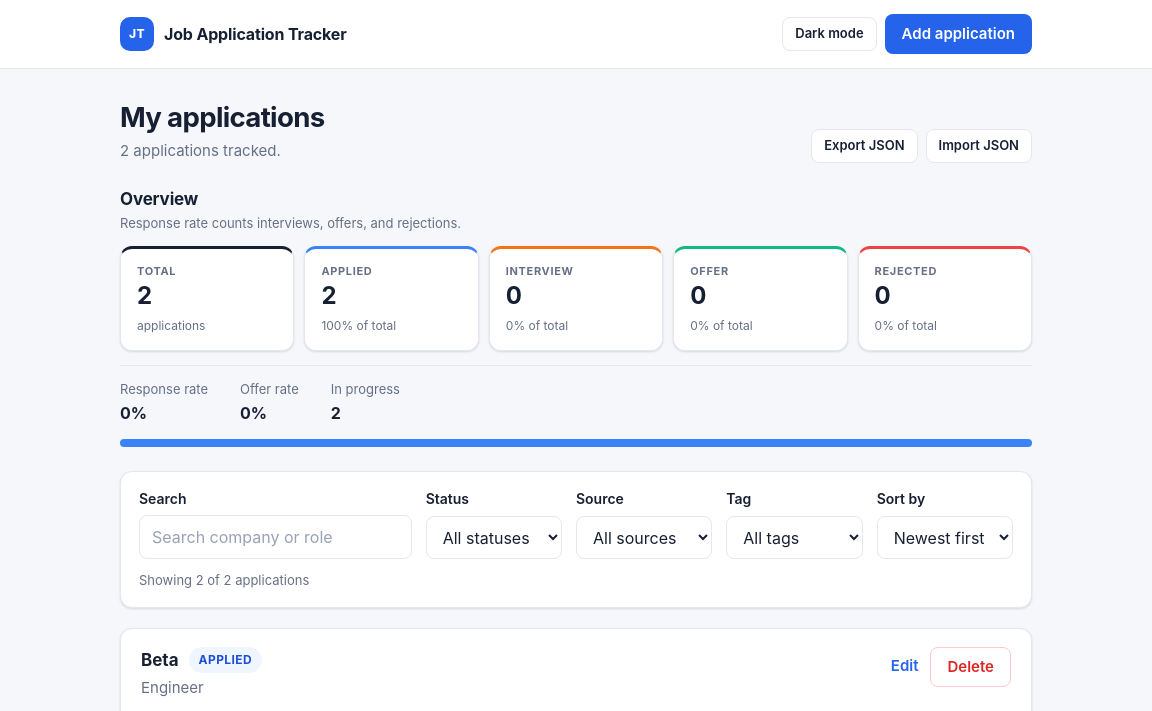
Test: filters applications by source and tag
The width and height of the screenshot is (1152, 711).
Select "Referral" in the dropdown labelled "Source" at (644, 538), box [576,516,712,559]
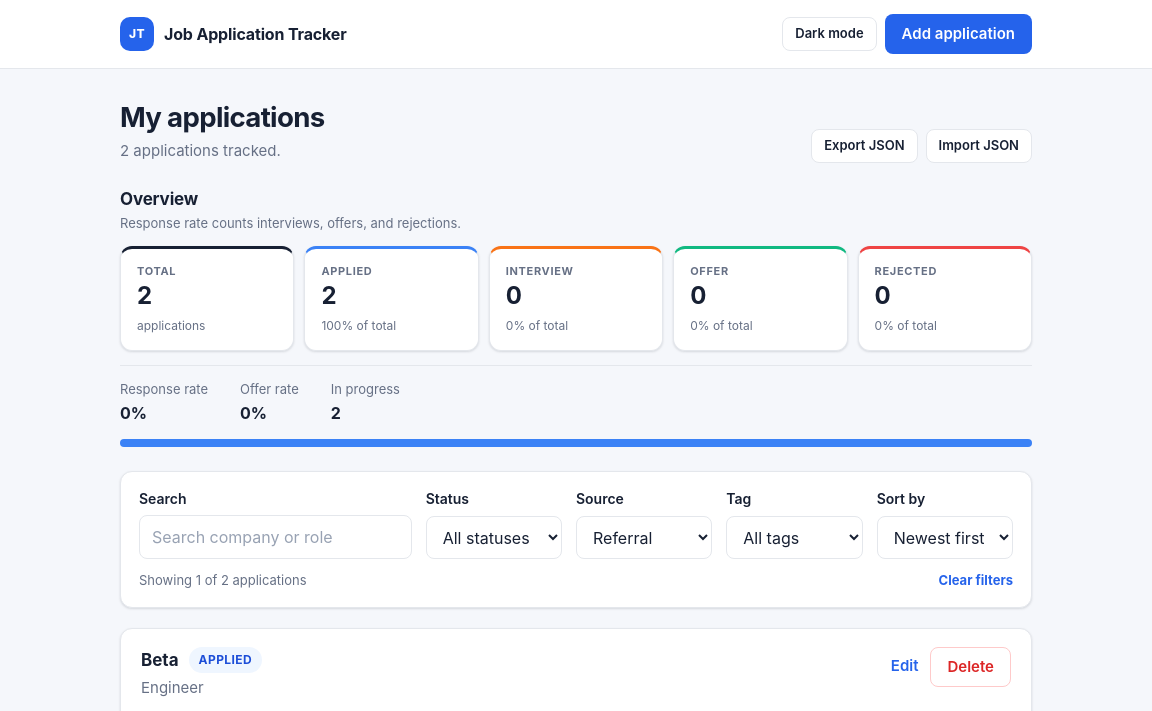
Expected: the heading "Beta" is shown, [141,648,179,671]
Expected: the heading "Alpha" is not shown
Click the button "Clear filters" at (976, 581), box [939,571,1013,590]
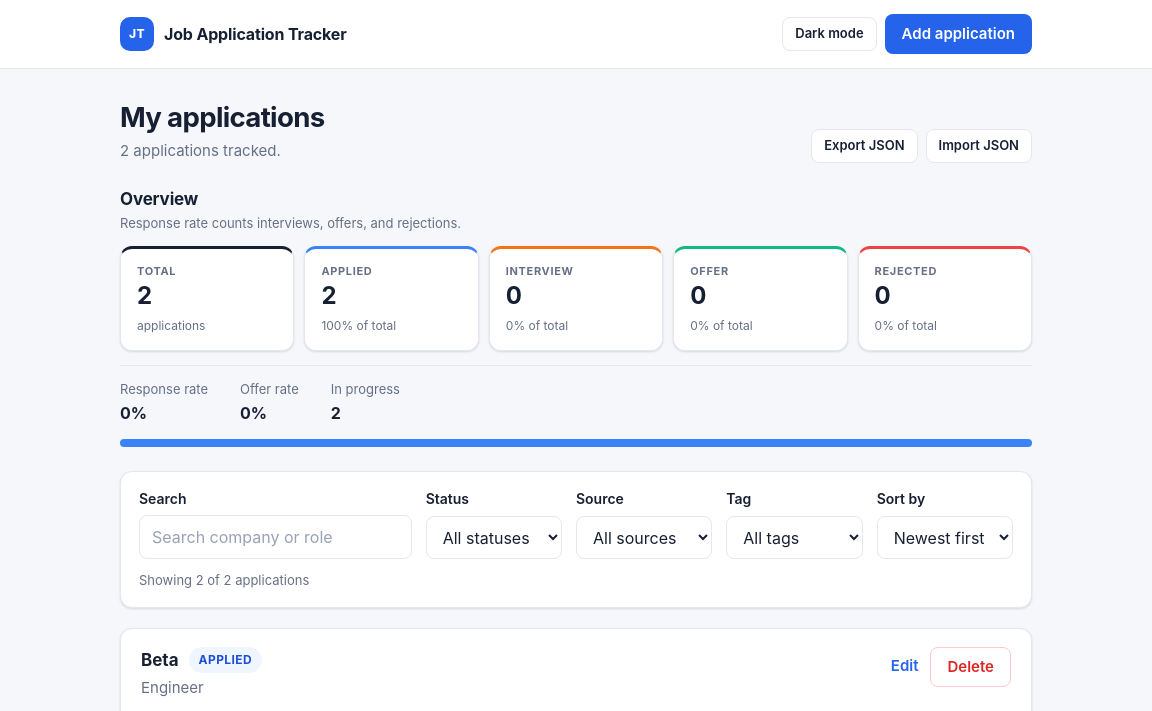
Select "Startup" in the dropdown labelled "Tag" at (794, 538), box [726,516,863,559]
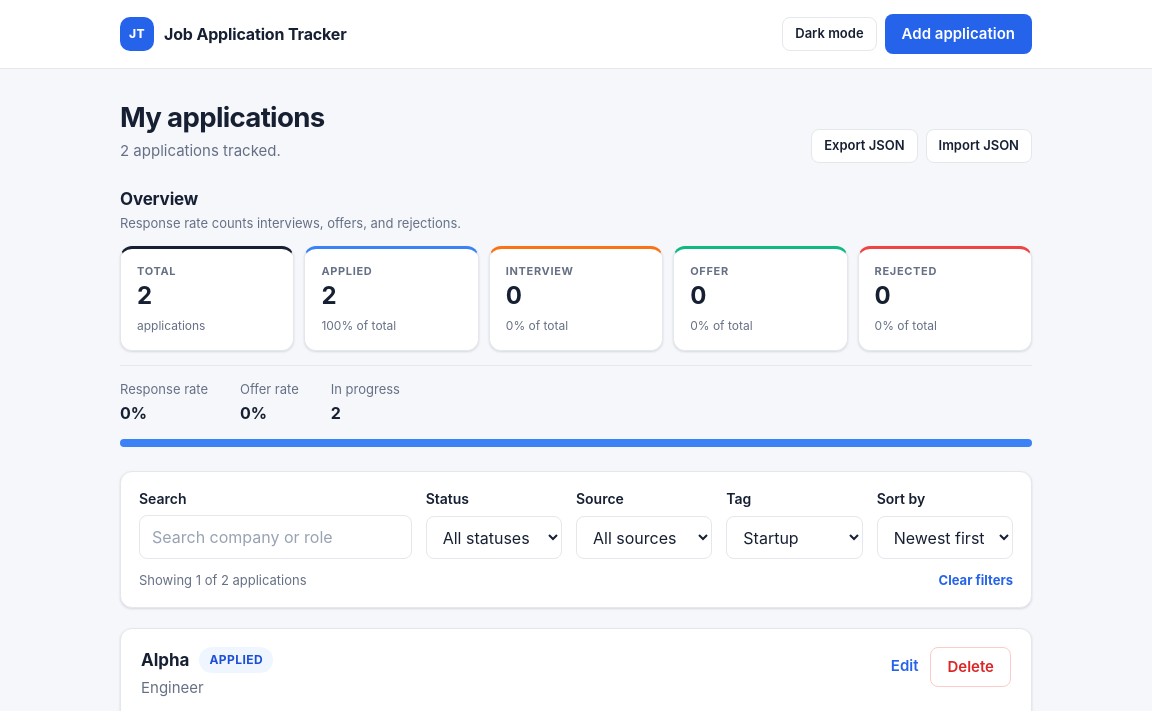
Expected: the heading "Alpha" is shown, [141,648,190,671]
Expected: the heading "Beta" is gone
